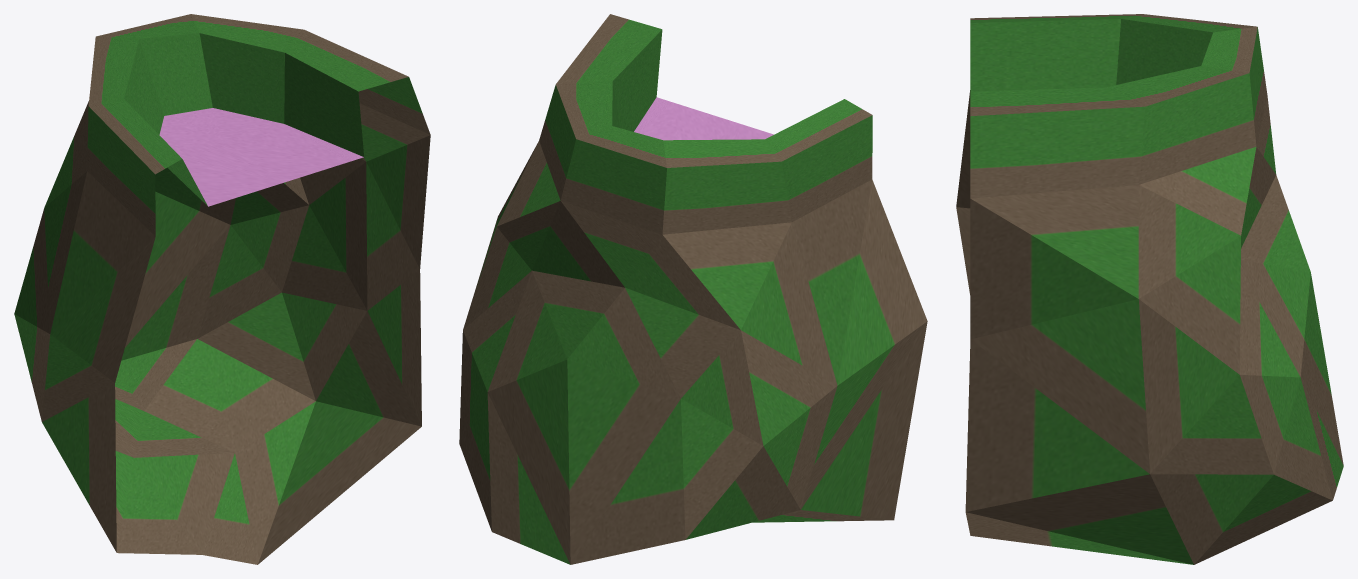
The model's file is cave_1.fbx.
3 renders of one model, left to right at view 1: azimuth 30°, elevation 25°; view 2: azimuth 150°, elevation 25°; view 3: azimuth 270°, elevation 25°, orthographic. The views are drawn at different scales.
Visible parts, largest first — view 1: Icosphere.031; view 2: Icosphere.031; view 3: Icosphere.031.
Boxes of the visible parts, box(x1,y1,x2,y2) form: Icosphere.031: box(14, 14, 430, 564); Icosphere.031: box(459, 14, 927, 564); Icosphere.031: box(956, 14, 1343, 564).
Size of the model in its own units: 1036 by 1315 by 921.
